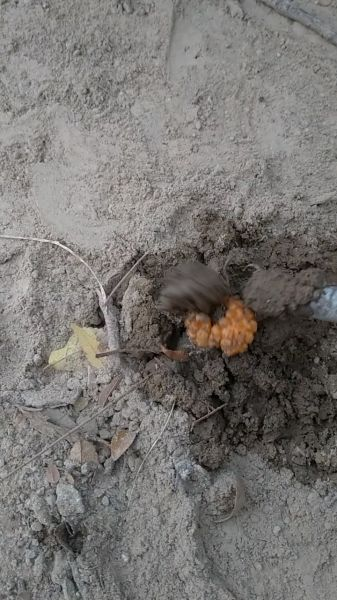eggs: (180, 299, 263, 354)
